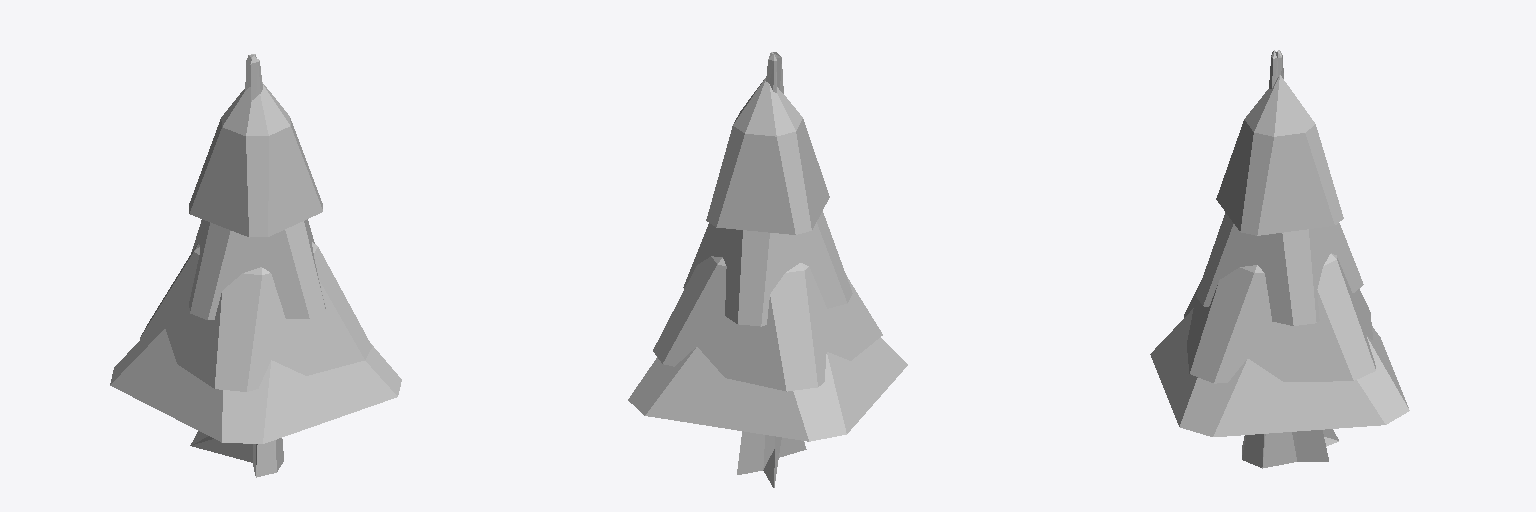
File: Tree_2.obj
3 renders of one model, left to right at view 1: azimuth 30°, elevation 25°; view 2: azimuth 150°, elevation 25°; view 3: azimuth 270°, elevation 25°, orthographic.
Parts seen in each view (by area): view 1: tree_2; view 2: tree_2; view 3: tree_2.
Part boxes in pixels (bbox=[...]): tree_2: bbox=[110, 54, 401, 477]; tree_2: bbox=[628, 52, 907, 487]; tree_2: bbox=[1150, 50, 1409, 468].
Size of the model in its own units: 144 by 248 by 144.